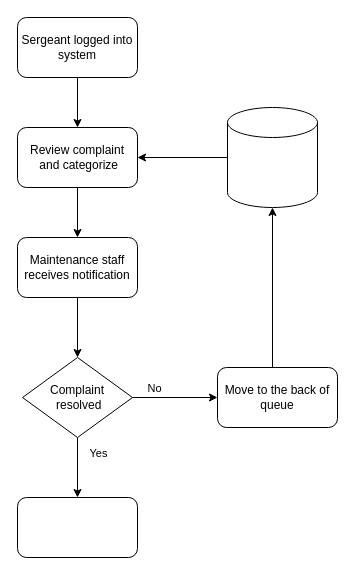
Image size: 355x575. Some labels were removed from this diagram. Here are the shapes that lost their labels. From the top down, the centre of each, then its label:
At pixel 272 157: "DATABASE".
At pixel 77 527: "Update status".
